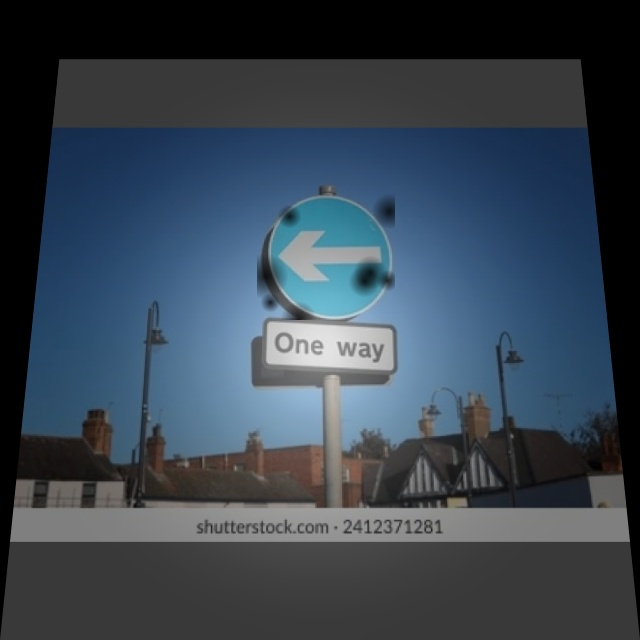Compulsory_Turn_Left: (257, 192, 395, 320)
